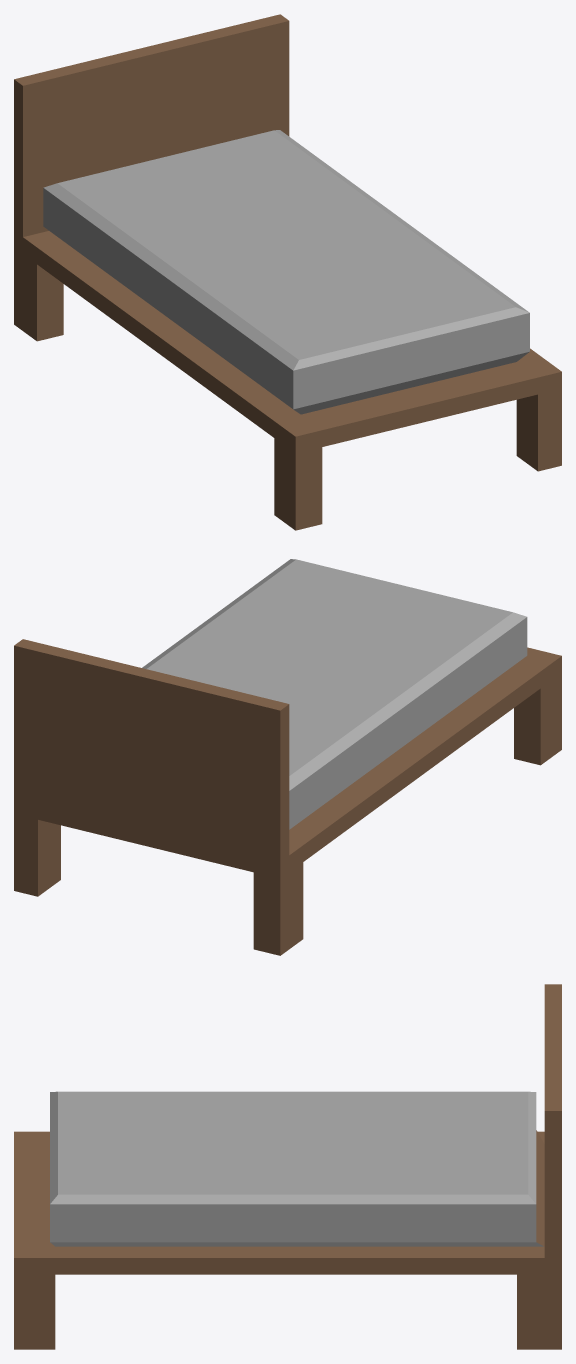
The model's file is BackhouseBed.fbx.
3 views of the same model, one above another, from view 1: azimuth 30°, elevation 25°; view 2: azimuth 150°, elevation 25°; view 3: azimuth 270°, elevation 25° (orthographic). The views are drawn at different scales.
Parts seen in each view (by area): view 1: pCube391; view 2: pCube391; view 3: pCube391.
Part boxes in pixels (box(x1,y1,x2,y2)): pCube391: box(14, 14, 561, 530); pCube391: box(14, 559, 561, 955); pCube391: box(14, 984, 561, 1349).
Size of the model in its own units: 0.5229 by 0.4601 by 0.9572.
